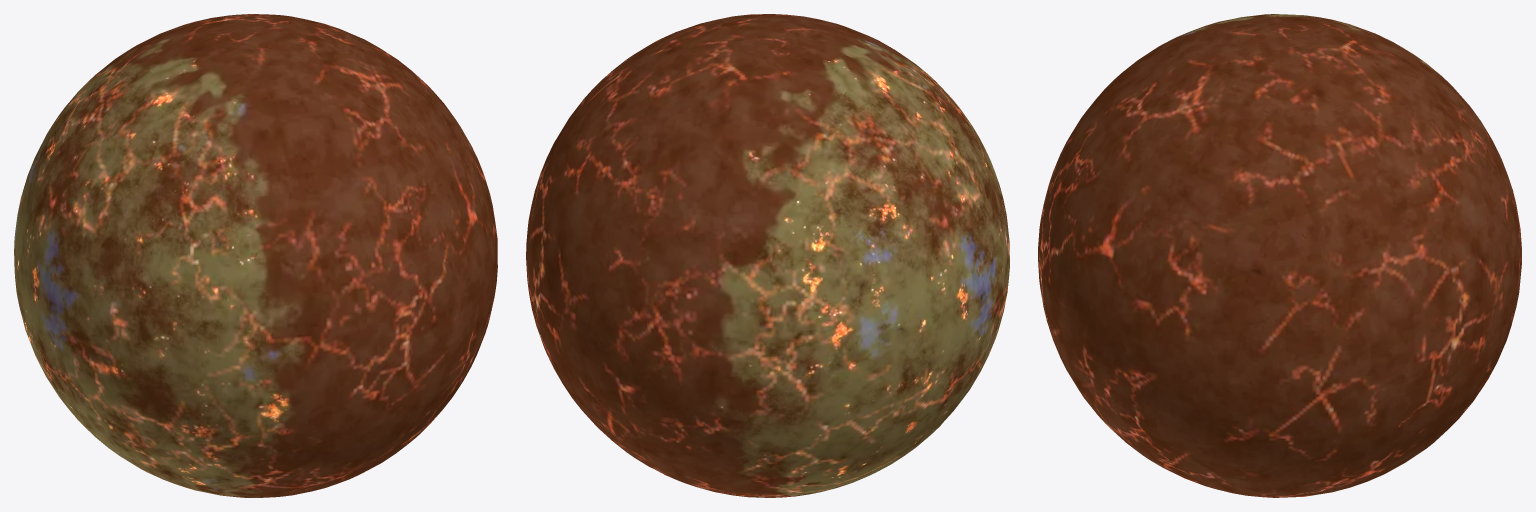
3 renders of one model, left to right at view 1: azimuth 30°, elevation 25°; view 2: azimuth 150°, elevation 25°; view 3: azimuth 270°, elevation 25°, orthographic.
Parts seen in each view (by area): view 1: Object_4; view 2: Object_4; view 3: Object_4.
Boxes of the visible parts, left/top/right/bottom form: Object_4: left=14, top=14, right=497, bottom=497; Object_4: left=526, top=14, right=1009, bottom=497; Object_4: left=1038, top=14, right=1521, bottom=497.
Bounding box in the file's own units: 2.02 × 2.02 × 2.02.
Materials: 1 (1 with a texture image).
